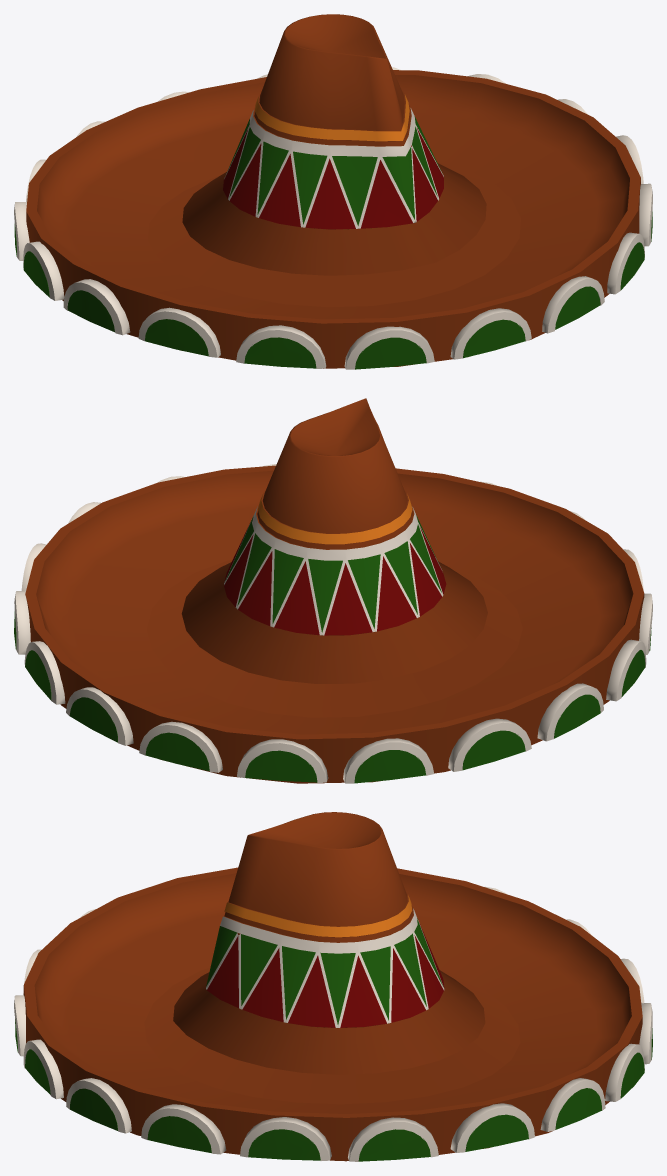
File: Sombrero.fbx
3 views of the same model, one above another, from view 1: azimuth 30°, elevation 25°; view 2: azimuth 150°, elevation 25°; view 3: azimuth 270°, elevation 25° (orthographic).
Visible parts, largest first — view 1: Sombrero; view 2: Sombrero; view 3: Sombrero.
Boxes of the visible parts, x1,y1,x2,y2 form: Sombrero: [14, 14, 652, 369]; Sombrero: [14, 398, 652, 783]; Sombrero: [14, 812, 652, 1161].
Bounding box in the file's own units: 66.73 × 25.55 × 66.22.
